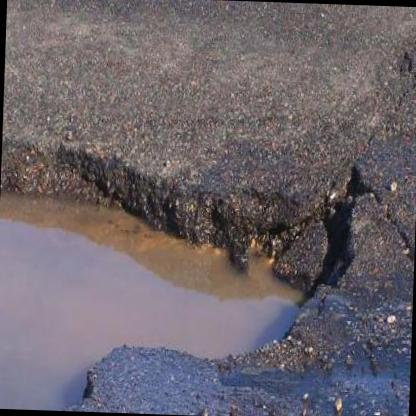pothole: (0, 130, 367, 416)
